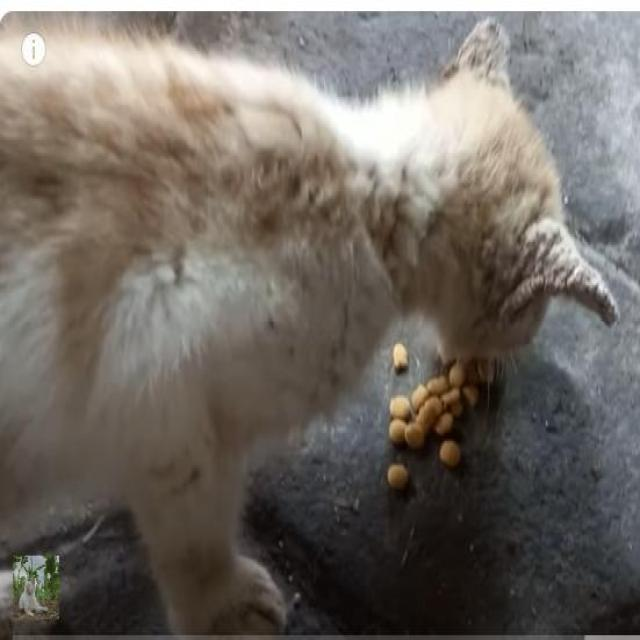ghe: (506, 217, 623, 326)
